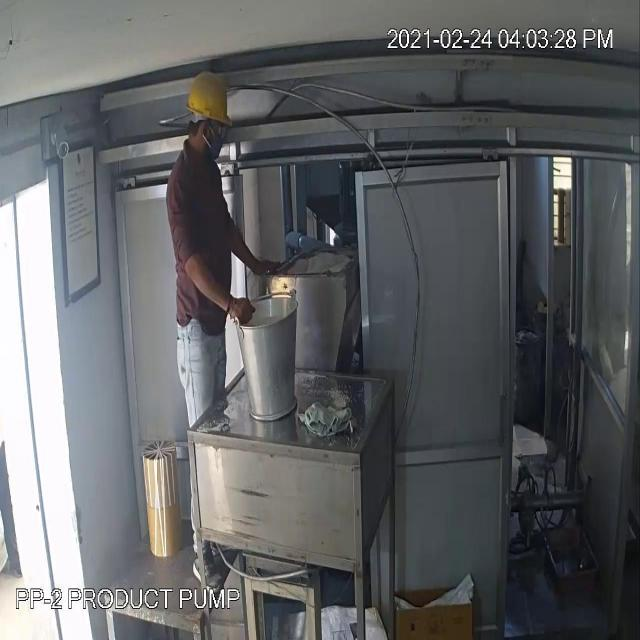hat: (184, 69, 230, 121)
